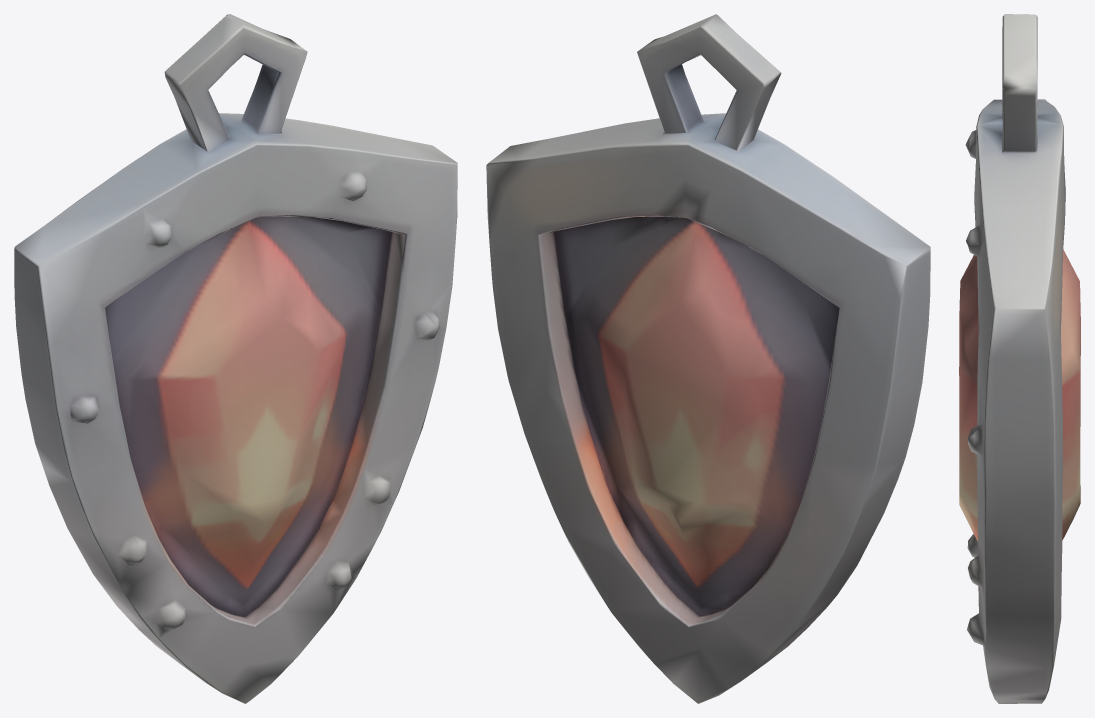
The picture shows the model from 3 angles, left to right: view 1: azimuth 30°, elevation 25°; view 2: azimuth 150°, elevation 25°; view 3: azimuth 270°, elevation 25°; orthographic projection.
Visible parts, largest first — view 1: iron-charm; view 2: iron-charm; view 3: iron-charm.
Boxes of the visible parts, x1=… form: iron-charm: x1=14, y1=14, x2=457, y2=703; iron-charm: x1=486, y1=14, x2=930, y2=703; iron-charm: x1=959, y1=14, x2=1080, y2=703.
Size of the model in its own units: 0.1092 by 0.168 by 0.0269.
1 material, 1 textured.
